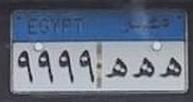9: (55, 49, 76, 83), (78, 49, 96, 82), (15, 51, 34, 82), (37, 50, 53, 84)
haa: (105, 56, 129, 80), (159, 56, 182, 80), (133, 56, 155, 78)
